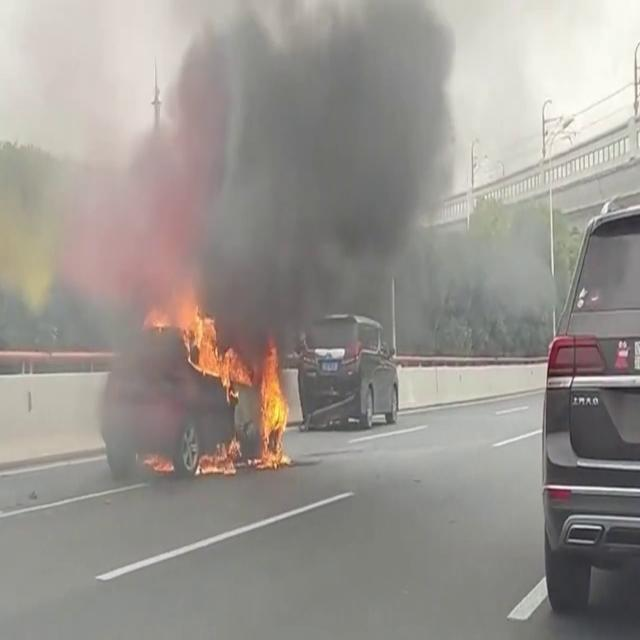accident: (102, 314, 398, 476), (102, 316, 280, 472), (298, 314, 399, 428)
